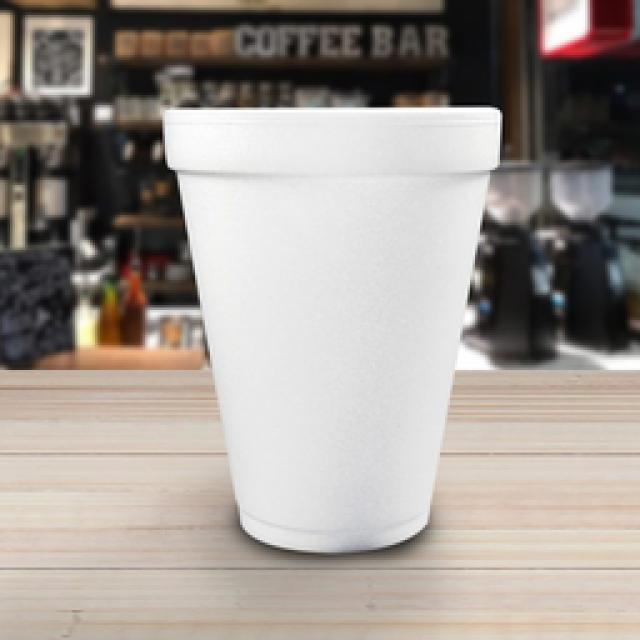styrofoam: (162, 108, 498, 550)
